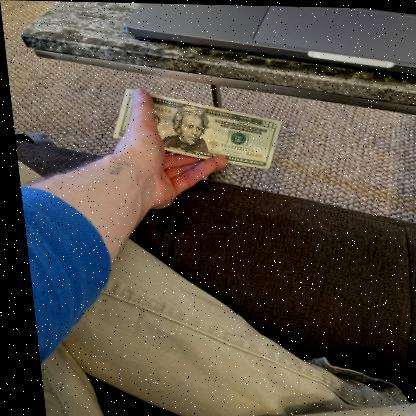twenty-front: (110, 86, 281, 169)
